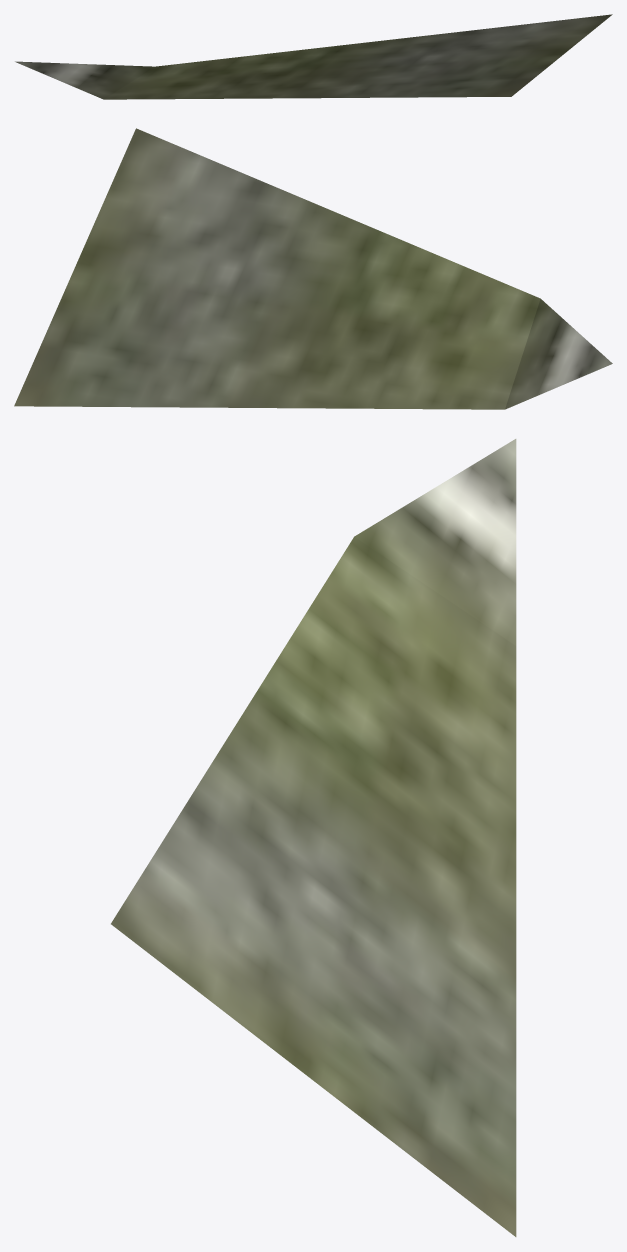
3 renders of one model, top to bottom at view 1: azimuth 30°, elevation 25°; view 2: azimuth 150°, elevation 25°; view 3: azimuth 270°, elevation 25°, orthographic. The views are drawn at different scales.
Bounding box in the file's own units: 1.46 × 0.439 × 0.5148.
1 material, 1 textured.
